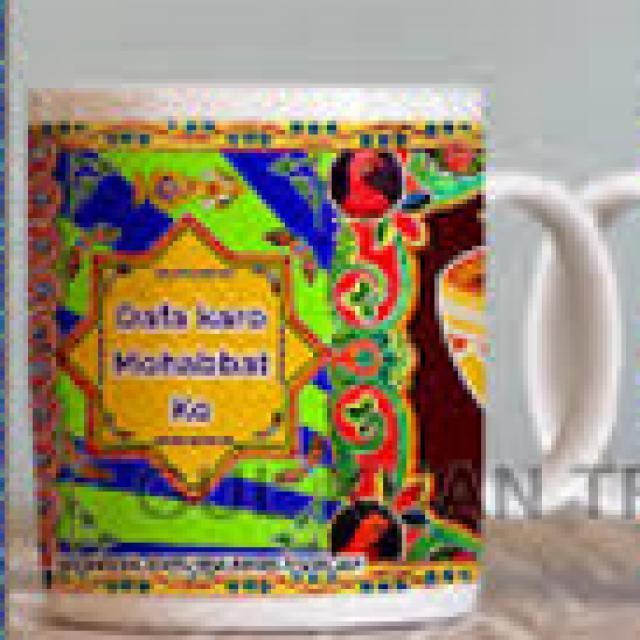taza: (24, 81, 624, 629)
